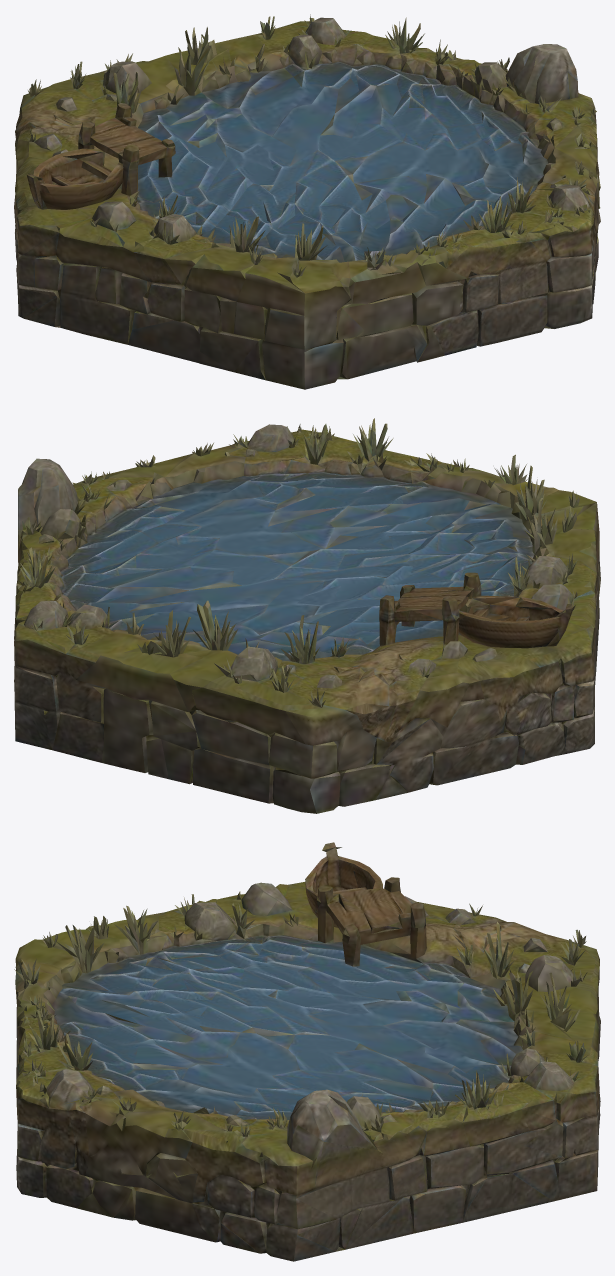
The model's file is lake.glb.
3 renders of one model, top to bottom at view 1: azimuth 30°, elevation 25°; view 2: azimuth 150°, elevation 25°; view 3: azimuth 270°, elevation 25°, orthographic. The views are drawn at different scales.
Bounding box in the file's own units: 2.33 × 0.5674 × 2.01.
1 material, 1 textured.
